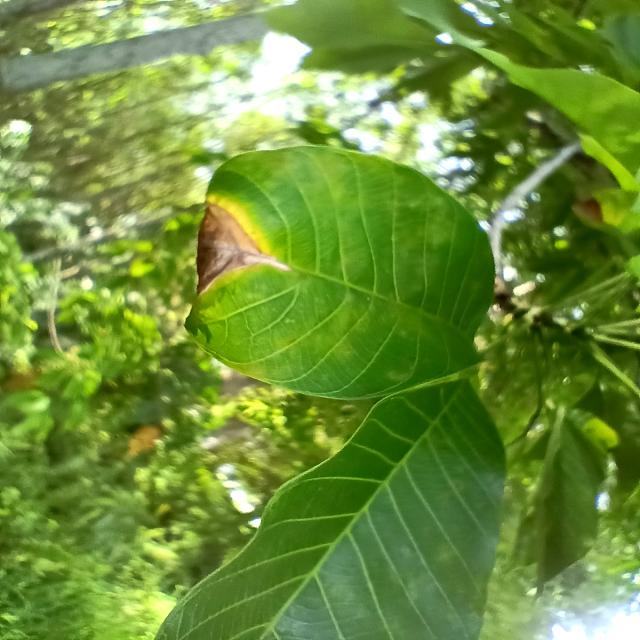Leaf-Blight: (195, 202, 290, 294)
